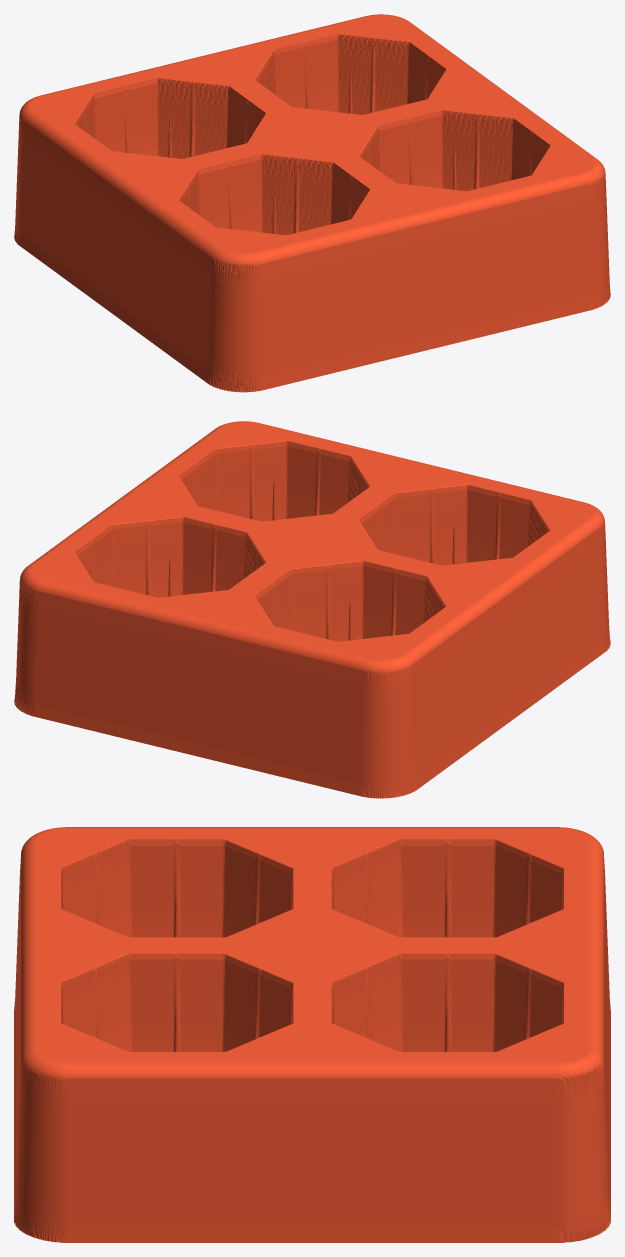
The model's file is mold.glb.
3 views of the same model, one above another, from view 1: azimuth 30°, elevation 25°; view 2: azimuth 150°, elevation 25°; view 3: azimuth 270°, elevation 25° (orthographic). The views are drawn at different scales.
Parts seen in each view (by area): view 1: geometry_0; view 2: geometry_0; view 3: geometry_0.
Boxes of the visible parts, x1=… form: geometry_0: x1=14, y1=14, x2=610, y2=392; geometry_0: x1=14, y1=421, x2=610, y2=798; geometry_0: x1=14, y1=827, x2=610, y2=1242.
Size of the model in its own units: 0.0992 by 0.0314 by 0.0992.
